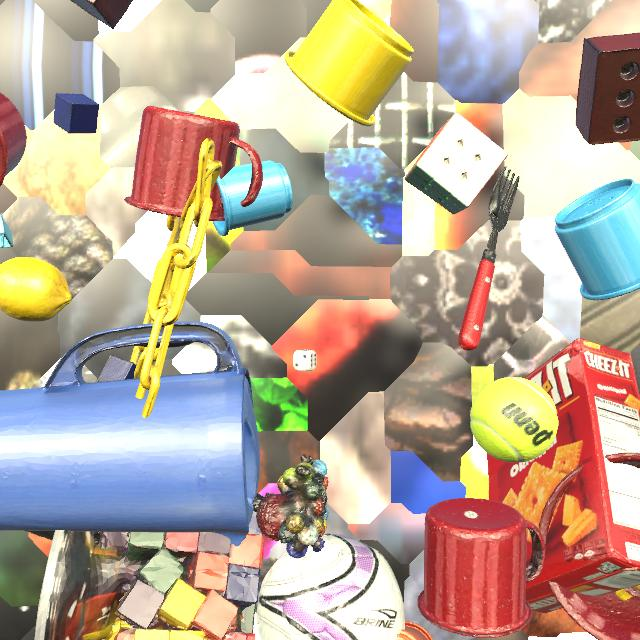ycb_003_cracker_box: (487, 338, 640, 613)
ycb_014_lemon: (0, 257, 72, 322)
